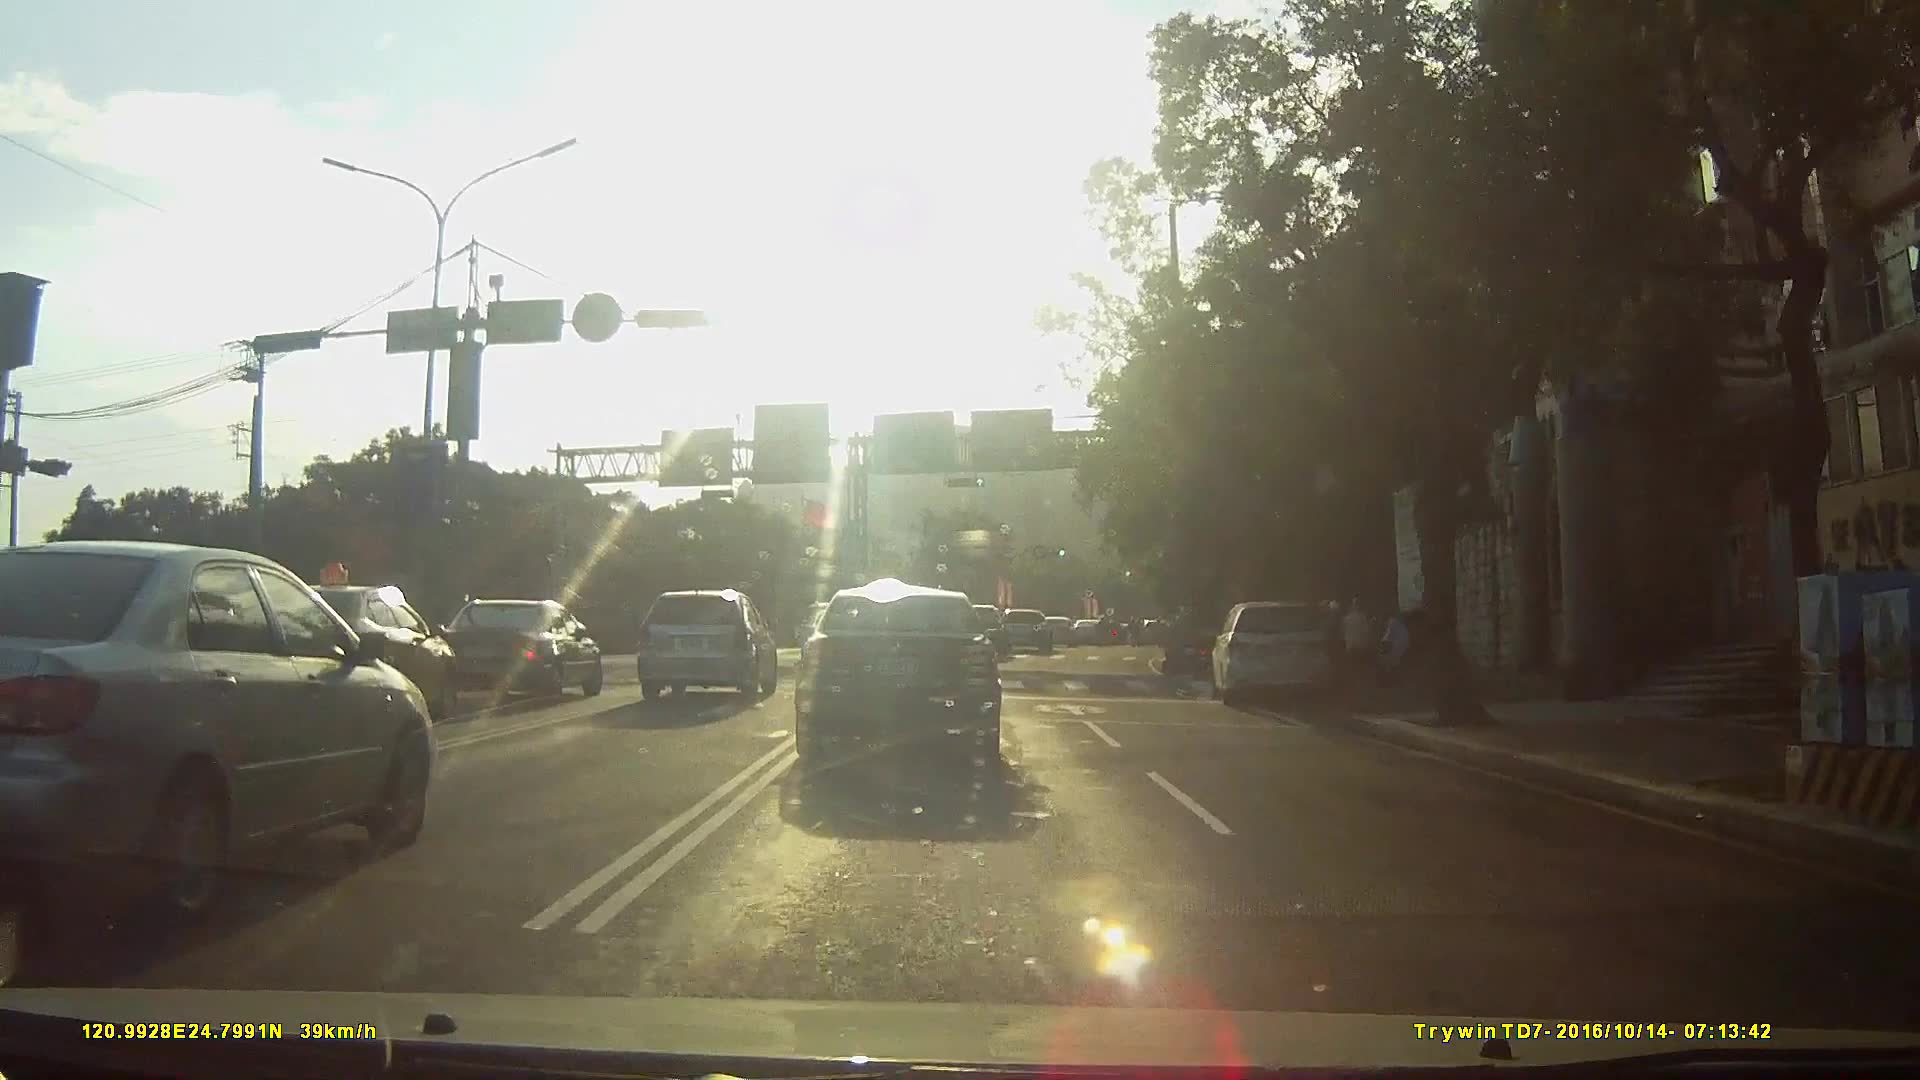pedestrian: (1340, 603, 1382, 665), (1385, 616, 1421, 683)
rider: (1163, 605, 1219, 682)
vehicle: (0, 539, 441, 925), (796, 593, 1025, 793), (419, 598, 607, 708), (635, 587, 779, 705), (1203, 600, 1352, 712), (954, 603, 1016, 661), (1001, 610, 1059, 656), (1046, 615, 1085, 647), (1075, 618, 1114, 646)
